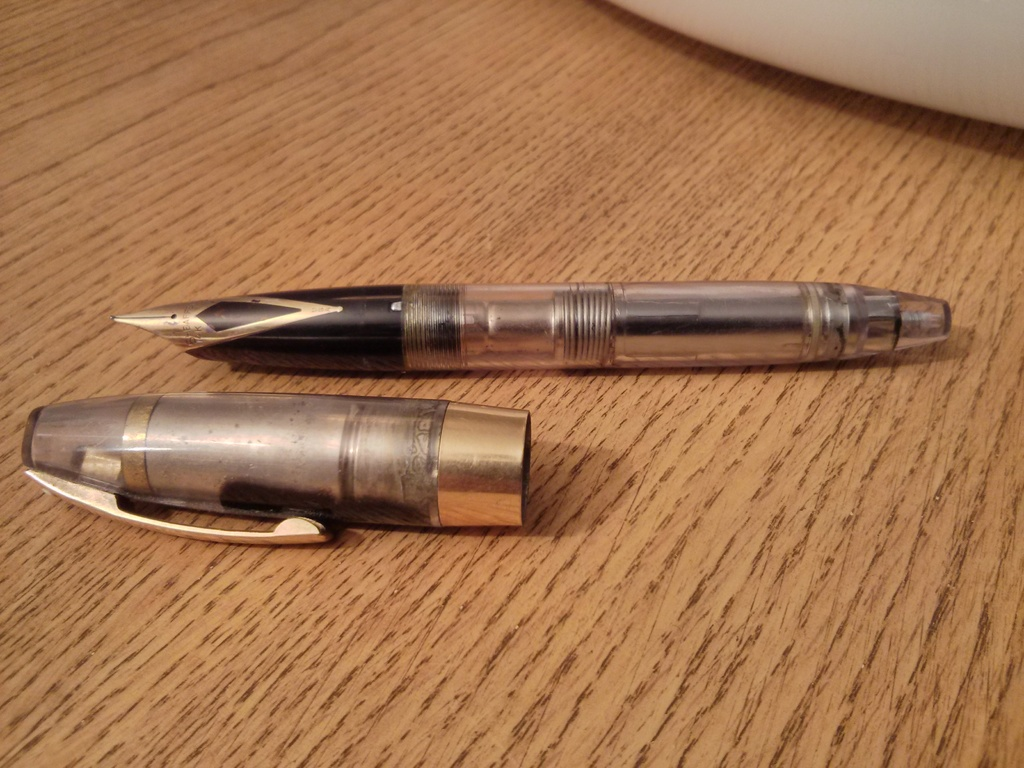Pen: (112, 299, 949, 361)
